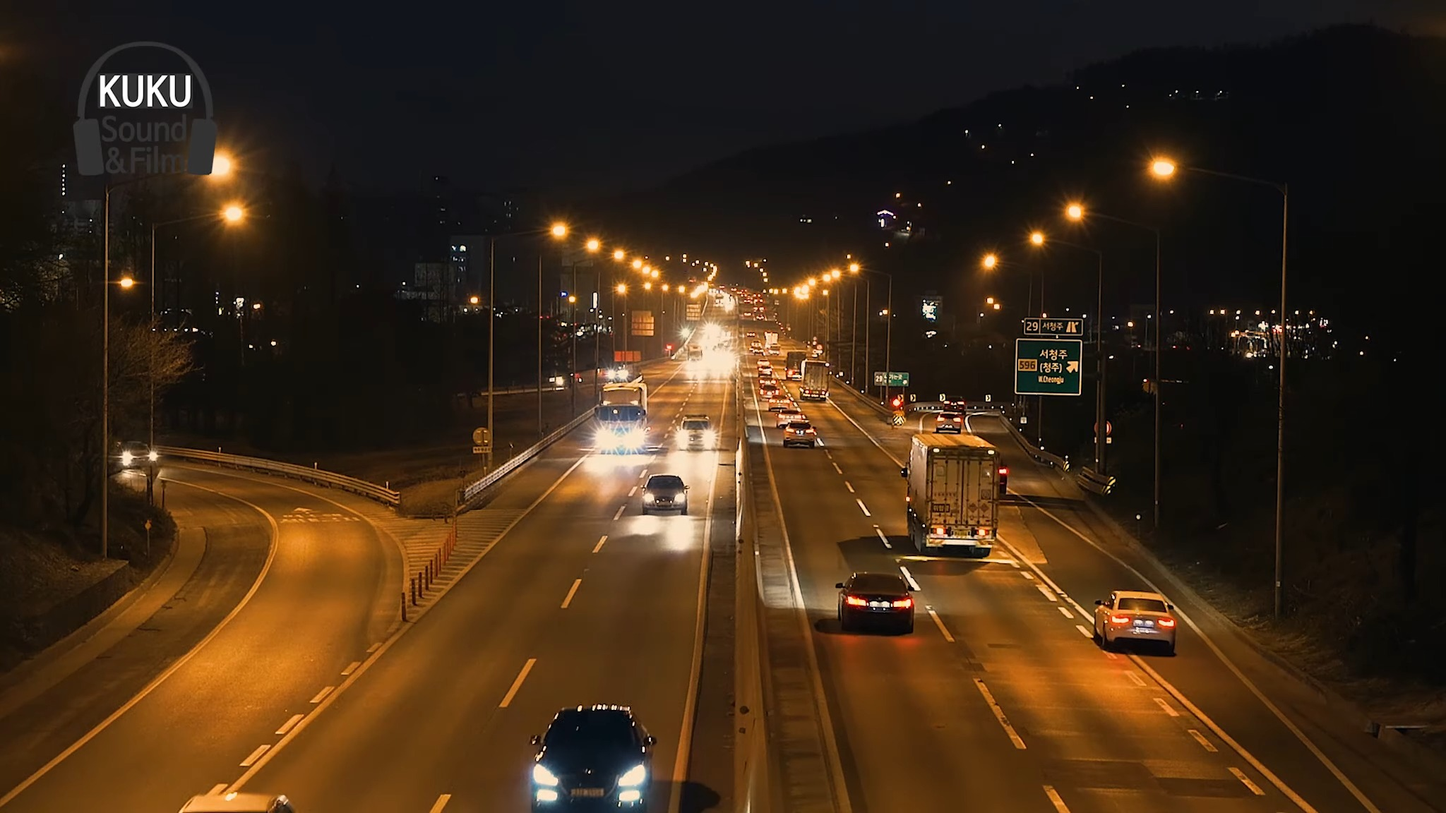car: (525, 704, 651, 813), (832, 572, 917, 627), (1097, 590, 1175, 645), (645, 478, 685, 514)
truck: (908, 436, 1003, 560)
